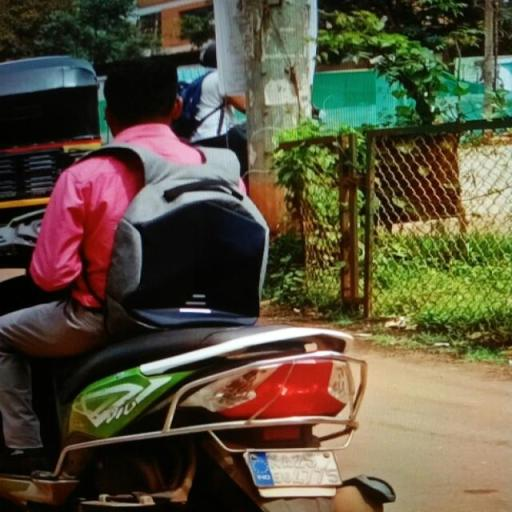bike: (0, 52, 389, 512)
withouthelmet: (106, 59, 180, 122)
